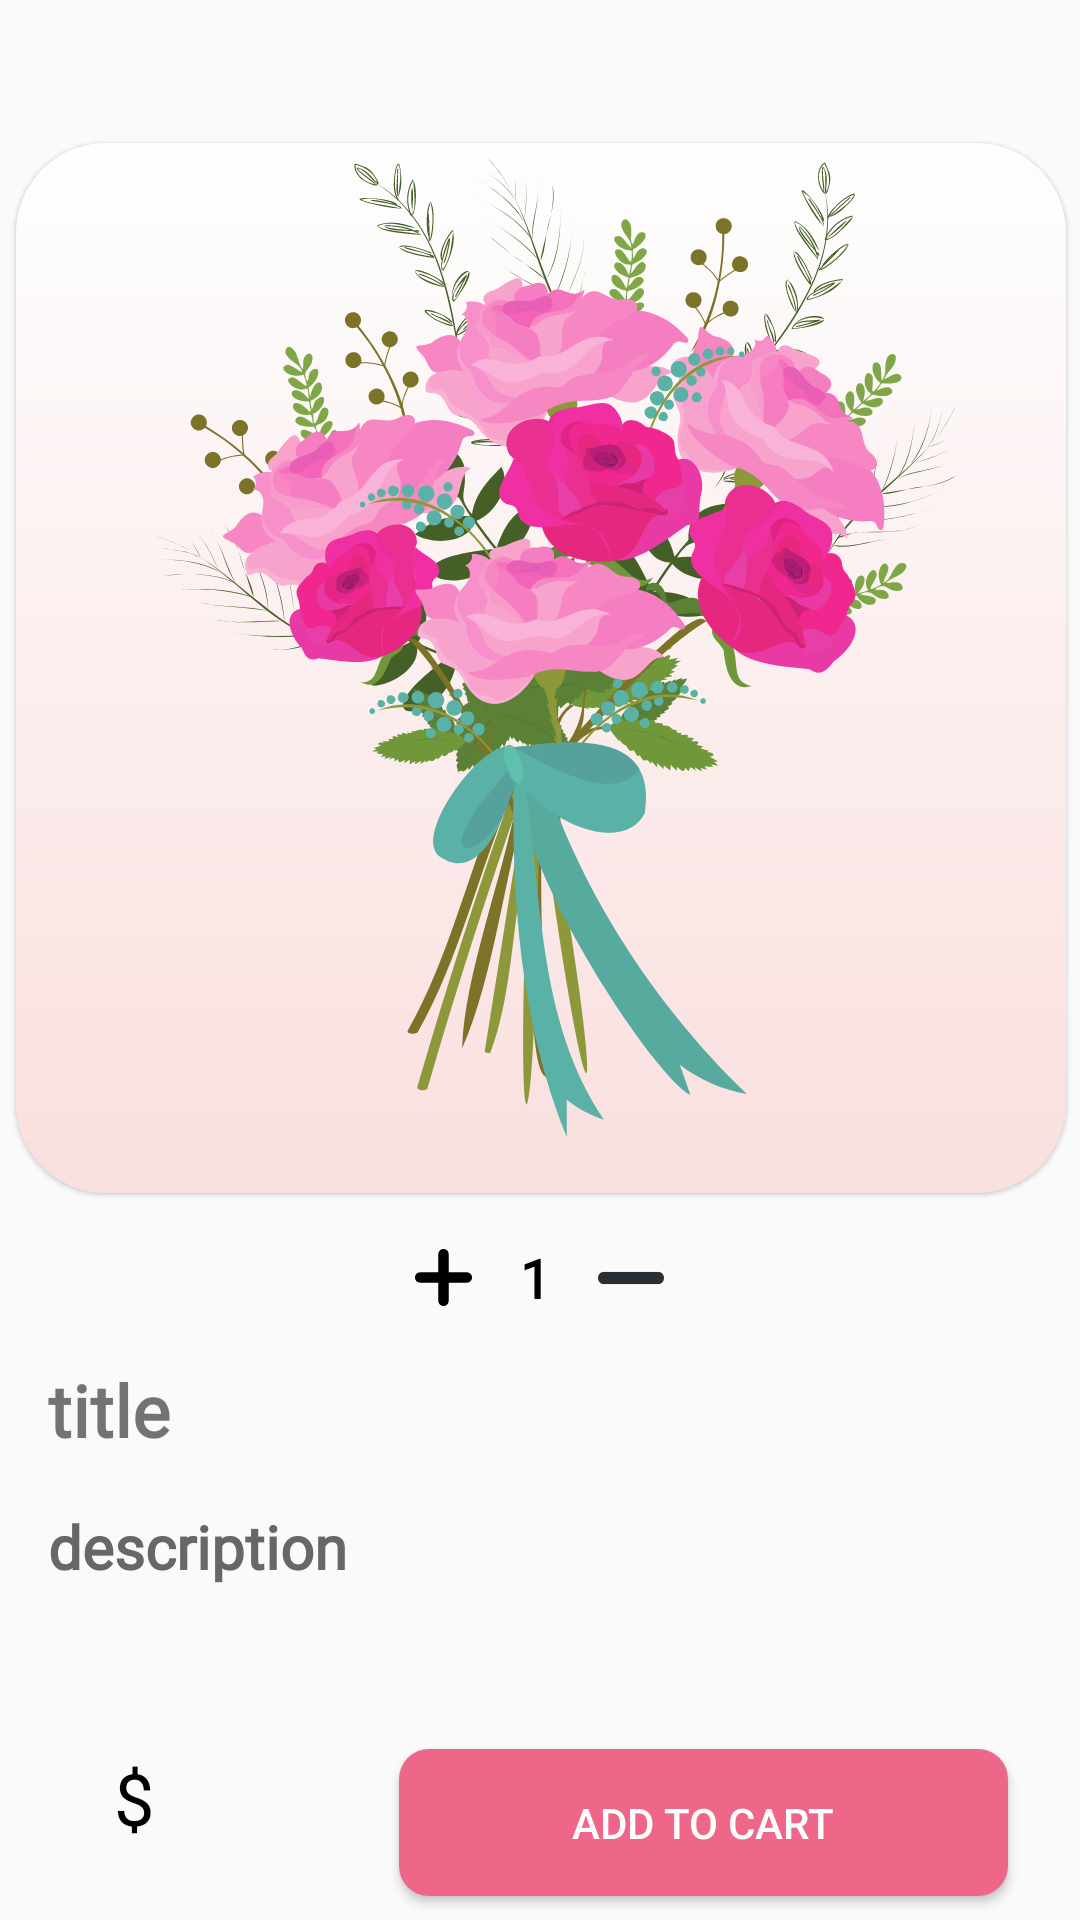

Icon click points for this 1080x1920 phone screenshot, format point (x, y):
minius: point (631, 1278)
plus: point (443, 1277)
